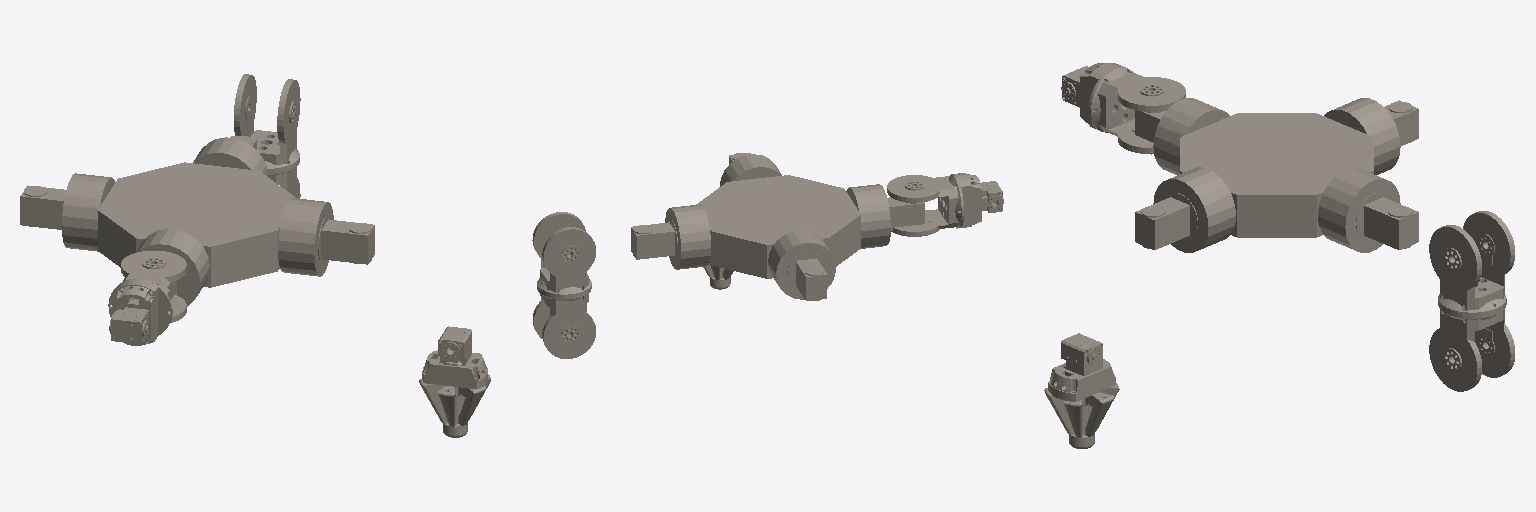
URDF robot description (Moonbot_1_urdf):
<?xml version="1.0" encoding="utf-8"?>
<!-- This URDF was automatically created by SolidWorks to URDF Exporter! Originally created by [author] ([email redacted]) 
     Commit Version: 1.6.0-4-g7f85cfe  Build Version: 1.6.7995.38578
     For more information, please see http://wiki.ros.org/sw_urdf_exporter -->
<robot
  name="Moonbot_1_urdf">
  <link
    name="base_link">
    <inertial>
      <origin
        xyz="4.4525E-06 -1.372E-05 0.015651"
        rpy="0 0 0" />
      <mass
        value="1.7613" />
      <inertia
        ixx="0.0022157"
        ixy="1.9729E-07"
        ixz="6.2687E-11"
        iyy="0.0022117"
        iyz="-1.9316E-10"
        izz="0.0037074" />
    </inertial>
    <visual>
      <origin
        xyz="0 0 0"
        rpy="0 0 0" />
      <geometry>
        <mesh
          filename="package://Moonbot_1_urdf/meshes/base_link.STL" />
      </geometry>
      <material
        name="">
        <color
          rgba="0.64706 0.61961 0.58431 1" />
      </material>
    </visual>
    <collision>
      <origin
        xyz="0 0 0"
        rpy="0 0 0" />
      <geometry>
        <mesh
          filename="package://Moonbot_1_urdf/meshes/base_link.STL" />
      </geometry>
    </collision>
  </link>
  <link
    name="Leg1_Link1">
    <inertial>
      <origin
        xyz="-0.16164 -0.16206 0.0078727"
        rpy="0 0 0" />
      <mass
        value="0.19524" />
      <inertia
        ixx="0.00013212"
        ixy="-2.569E-05"
        ixz="3.8551E-10"
        iyy="0.00013211"
        iyz="4.1271E-10"
        izz="0.00012874" />
    </inertial>
    <visual>
      <origin
        xyz="0 0 0"
        rpy="0 0 0" />
      <geometry>
        <mesh
          filename="package://Moonbot_1_urdf/meshes/Leg1_Link1.STL" />
      </geometry>
      <material
        name="">
        <color
          rgba="0.64706 0.61961 0.58431 1" />
      </material>
    </visual>
    <collision>
      <origin
        xyz="0 0 0"
        rpy="0 0 0" />
      <geometry>
        <mesh
          filename="package://Moonbot_1_urdf/meshes/Leg1_Link1.STL" />
      </geometry>
    </collision>
  </link>
  <joint
    name="Leg1_Joint1"
    type="revolute">
    <origin
      xyz="0 0 0"
      rpy="0 0 0" />
    <parent
      link="base_link" />
    <child
      link="Leg1_Link1" />
    <axis
      xyz="0 0 -1" />
    <limit
      lower="-1.57"
      upper="1.57"
      effort="200"
      velocity="3" />
  </joint>
  <link
    name="Leg1_Link2">
    <inertial>
      <origin
        xyz="-0.20029 -0.19993 -0.0487"
        rpy="0 0 0" />
      <mass
        value="0.2225" />
      <inertia
        ixx="0.00024185"
        ixy="1.6469E-05"
        ixz="2.7889E-10"
        iyy="0.00024185"
        iyz="-2.7889E-10"
        izz="0.00016006" />
    </inertial>
    <visual>
      <origin
        xyz="0 0 0"
        rpy="0 0 0" />
      <geometry>
        <mesh
          filename="package://Moonbot_1_urdf/meshes/Leg1_Link2.STL" />
      </geometry>
      <material
        name="">
        <color
          rgba="0.64706 0.61961 0.58431 1" />
      </material>
    </visual>
    <collision>
      <origin
        xyz="0 0 0"
        rpy="0 0 0" />
      <geometry>
        <mesh
          filename="package://Moonbot_1_urdf/meshes/Leg1_Link2.STL" />
      </geometry>
    </collision>
  </link>
  <joint
    name="Leg1_Joint2"
    type="revolute">
    <origin
      xyz="0 0 0"
      rpy="0 0 0" />
    <parent
      link="Leg1_Link1" />
    <child
      link="Leg1_Link2" />
    <axis
      xyz="0.70711 -0.70711 0" />
    <limit
      lower="-1.57"
      upper="1.57"
      effort="200"
      velocity="3" />
  </joint>
  <link
    name="Leg1_Link3">
    <inertial>
      <origin
        xyz="-0.19985 -0.20037 -0.14553"
        rpy="0 0 0" />
      <mass
        value="0.14207" />
      <inertia
        ixx="4.5915E-05"
        ixy="-5.5477E-06"
        ixz="-6.9185E-10"
        iyy="4.5915E-05"
        iyz="1.1922E-09"
        izz="5.1594E-05" />
    </inertial>
    <visual>
      <origin
        xyz="0 0 0"
        rpy="0 0 0" />
      <geometry>
        <mesh
          filename="package://Moonbot_1_urdf/meshes/Leg1_Link3.STL" />
      </geometry>
      <material
        name="">
        <color
          rgba="0.64706 0.61961 0.58431 1" />
      </material>
    </visual>
    <collision>
      <origin
        xyz="0 0 0"
        rpy="0 0 0" />
      <geometry>
        <mesh
          filename="package://Moonbot_1_urdf/meshes/Leg1_Link3.STL" />
      </geometry>
    </collision>
  </link>
  <joint
    name="Leg1_Joint3"
    type="revolute">
    <origin
      xyz="0 0 0"
      rpy="0 0 0" />
    <parent
      link="Leg1_Link2" />
    <child
      link="Leg1_Link3" />
    <axis
      xyz="0.70711 -0.70711 0" />
    <limit
      lower="-1.57"
      upper="1.57"
      effort="200"
      velocity="3" />
  </joint>
  <link
    name="Leg2_Link1">
    <inertial>
      <origin
        xyz="-0.16206 0.16164 0.0078727"
        rpy="0 0 0" />
      <mass
        value="0.19524" />
      <inertia
        ixx="0.00013211"
        ixy="2.569E-05"
        ixz="4.1271E-10"
        iyy="0.00013212"
        iyz="-3.8551E-10"
        izz="0.00012874" />
    </inertial>
    <visual>
      <origin
        xyz="0 0 0"
        rpy="0 0 0" />
      <geometry>
        <mesh
          filename="package://Moonbot_1_urdf/meshes/Leg2_Link1.STL" />
      </geometry>
      <material
        name="">
        <color
          rgba="0.64706 0.61961 0.58431 1" />
      </material>
    </visual>
    <collision>
      <origin
        xyz="0 0 0"
        rpy="0 0 0" />
      <geometry>
        <mesh
          filename="package://Moonbot_1_urdf/meshes/Leg2_Link1.STL" />
      </geometry>
    </collision>
  </link>
  <joint
    name="Leg2_Joint1"
    type="revolute">
    <origin
      xyz="0 0 0"
      rpy="0 0 0" />
    <parent
      link="base_link" />
    <child
      link="Leg2_Link1" />
    <axis
      xyz="0 0 -1" />
    <limit
      lower="-1.57"
      upper="1.57"
      effort="200"
      velocity="3" />
  </joint>
  <link
    name="Leg2_Link2">
    <inertial>
      <origin
        xyz="-0.19993 0.20029 -0.0487"
        rpy="0 0 0" />
      <mass
        value="0.2225" />
      <inertia
        ixx="0.00024185"
        ixy="-1.6469E-05"
        ixz="-3.0519E-10"
        iyy="0.00024185"
        iyz="3.0519E-10"
        izz="0.00016006" />
    </inertial>
    <visual>
      <origin
        xyz="0 0 0"
        rpy="0 0 0" />
      <geometry>
        <mesh
          filename="package://Moonbot_1_urdf/meshes/Leg2_Link2.STL" />
      </geometry>
      <material
        name="">
        <color
          rgba="0.64706 0.61961 0.58431 1" />
      </material>
    </visual>
    <collision>
      <origin
        xyz="0 0 0"
        rpy="0 0 0" />
      <geometry>
        <mesh
          filename="package://Moonbot_1_urdf/meshes/Leg2_Link2.STL" />
      </geometry>
    </collision>
  </link>
  <joint
    name="Leg2_Joint2"
    type="revolute">
    <origin
      xyz="0 0 0"
      rpy="0 0 0" />
    <parent
      link="Leg2_Link1" />
    <child
      link="Leg2_Link2" />
    <axis
      xyz="0.70711 0.70711 0" />
    <limit
      lower="-1.57"
      upper="1.57"
      effort="200"
      velocity="3" />
  </joint>
  <link
    name="Leg2_Link3">
    <inertial>
      <origin
        xyz="-0.20037 0.19985 -0.14553"
        rpy="0 0 0" />
      <mass
        value="0.14207" />
      <inertia
        ixx="4.5915E-05"
        ixy="5.5477E-06"
        ixz="1.1923E-09"
        iyy="4.5915E-05"
        iyz="6.9184E-10"
        izz="5.1594E-05" />
    </inertial>
    <visual>
      <origin
        xyz="0 0 0"
        rpy="0 0 0" />
      <geometry>
        <mesh
          filename="package://Moonbot_1_urdf/meshes/Leg2_Link3.STL" />
      </geometry>
      <material
        name="">
        <color
          rgba="0.64706 0.61961 0.58431 1" />
      </material>
    </visual>
    <collision>
      <origin
        xyz="0 0 0"
        rpy="0 0 0" />
      <geometry>
        <mesh
          filename="package://Moonbot_1_urdf/meshes/Leg2_Link3.STL" />
      </geometry>
    </collision>
  </link>
  <joint
    name="Leg2_joint3"
    type="revolute">
    <origin
      xyz="0 0 0"
      rpy="0 0 0" />
    <parent
      link="Leg2_Link2" />
    <child
      link="Leg2_Link3" />
    <axis
      xyz="0.70711 0.70711 0" />
    <limit
      lower="-1.57"
      upper="1.57"
      effort="200"
      velocity="3" />
  </joint>
  <link
    name="Leg3_Link1">
    <inertial>
      <origin
        xyz="0.16181 -0.16189 0.0078731"
        rpy="0 0 0" />
      <mass
        value="0.19524" />
      <inertia
        ixx="0.00013212"
        ixy="2.569E-05"
        ixz="3.8551E-10"
        iyy="0.00013211"
        iyz="-4.1271E-10"
        izz="0.00012874" />
    </inertial>
    <visual>
      <origin
        xyz="0 0 0"
        rpy="0 0 0" />
      <geometry>
        <mesh
          filename="package://Moonbot_1_urdf/meshes/Leg3_Link1.STL" />
      </geometry>
      <material
        name="">
        <color
          rgba="0.64706 0.61961 0.58431 1" />
      </material>
    </visual>
    <collision>
      <origin
        xyz="0 0 0"
        rpy="0 0 0" />
      <geometry>
        <mesh
          filename="package://Moonbot_1_urdf/meshes/Leg3_Link1.STL" />
      </geometry>
    </collision>
  </link>
  <joint
    name="Leg3_Joint1"
    type="revolute">
    <origin
      xyz="0 0 0"
      rpy="0 0 0" />
    <parent
      link="base_link" />
    <child
      link="Leg3_Link1" />
    <axis
      xyz="0 0 -1" />
    <limit
      lower="-1.57"
      upper="1.57"
      effort="200"
      velocity="3" />
  </joint>
  <link
    name="Leg3_Link2">
    <inertial>
      <origin
        xyz="0.20046 -0.19976 -0.0487"
        rpy="0 0 0" />
      <mass
        value="0.2225" />
      <inertia
        ixx="0.00024185"
        ixy="-1.6469E-05"
        ixz="-3.0519E-10"
        iyy="0.00024185"
        iyz="3.0519E-10"
        izz="0.00016006" />
    </inertial>
    <visual>
      <origin
        xyz="0 0 0"
        rpy="0 0 0" />
      <geometry>
        <mesh
          filename="package://Moonbot_1_urdf/meshes/Leg3_Link2.STL" />
      </geometry>
      <material
        name="">
        <color
          rgba="0.64706 0.61961 0.58431 1" />
      </material>
    </visual>
    <collision>
      <origin
        xyz="0 0 0"
        rpy="0 0 0" />
      <geometry>
        <mesh
          filename="package://Moonbot_1_urdf/meshes/Leg3_Link2.STL" />
      </geometry>
    </collision>
  </link>
  <joint
    name="Leg3_Joint2"
    type="revolute">
    <origin
      xyz="0 0 0"
      rpy="0 0 0" />
    <parent
      link="Leg3_Link1" />
    <child
      link="Leg3_Link2" />
    <axis
      xyz="0.70711 0.70711 0" />
    <limit
      lower="-1.57"
      upper="1.57"
      effort="200"
      velocity="3" />
  </joint>
  <link
    name="Leg3_Link3">
    <inertial>
      <origin
        xyz="0.2009 -0.19932 -0.14553"
        rpy="0 0 0" />
      <mass
        value="0.14207" />
      <inertia
        ixx="4.5915E-05"
        ixy="5.5477E-06"
        ixz="-1.1923E-09"
        iyy="4.5915E-05"
        iyz="-6.9184E-10"
        izz="5.1594E-05" />
    </inertial>
    <visual>
      <origin
        xyz="0 0 0"
        rpy="0 0 0" />
      <geometry>
        <mesh
          filename="package://Moonbot_1_urdf/meshes/Leg3_Link3.STL" />
      </geometry>
      <material
        name="">
        <color
          rgba="0.64706 0.61961 0.58431 1" />
      </material>
    </visual>
    <collision>
      <origin
        xyz="0 0 0"
        rpy="0 0 0" />
      <geometry>
        <mesh
          filename="package://Moonbot_1_urdf/meshes/Leg3_Link3.STL" />
      </geometry>
    </collision>
  </link>
  <joint
    name="Leg3_Joint3"
    type="revolute">
    <origin
      xyz="0 0 0"
      rpy="0 0 0" />
    <parent
      link="Leg3_Link2" />
    <child
      link="Leg3_Link3" />
    <axis
      xyz="0.70711 0.70711 0" />
    <limit
      lower="-1.57"
      upper="1.57"
      effort="200"
      velocity="3" />
  </joint>
  <link
    name="Leg4_Link1">
    <inertial>
      <origin
        xyz="4.4525E-06 -1.372E-05 0.015651"
        rpy="0 0 0" />
      <mass
        value="1.7613" />
      <inertia
        ixx="0.0022157"
        ixy="1.9729E-07"
        ixz="6.2687E-11"
        iyy="0.0022117"
        iyz="-1.9316E-10"
        izz="0.0037074" />
    </inertial>
    <visual>
      <origin
        xyz="0 0 0"
        rpy="0 0 0" />
      <geometry>
        <mesh
          filename="package://Moonbot_1_urdf/meshes/Leg4_Link1.STL" />
      </geometry>
      <material
        name="">
        <color
          rgba="0.64706 0.61961 0.58431 1" />
      </material>
    </visual>
    <collision>
      <origin
        xyz="0 0 0"
        rpy="0 0 0" />
      <geometry>
        <mesh
          filename="package://Moonbot_1_urdf/meshes/Leg4_Link1.STL" />
      </geometry>
    </collision>
  </link>
  <joint
    name="Leg4_Joint1"
    type="revolute">
    <origin
      xyz="0 0 0"
      rpy="0 0 0" />
    <parent
      link="base_link" />
    <child
      link="Leg4_Link1" />
    <axis
      xyz="0 0 -1" />
    <limit
      lower="-1.57"
      upper="1.57"
      effort="200"
      velocity="3" />
  </joint>
  <link
    name="Leg4_Link2">
    <inertial>
      <origin
        xyz="0.20029 0.19993 -0.0487"
        rpy="0 0 0" />
      <mass
        value="0.2225" />
      <inertia
        ixx="0.00024185"
        ixy="1.6469E-05"
        ixz="-3.0519E-10"
        iyy="0.00024185"
        iyz="-3.0519E-10"
        izz="0.00016006" />
    </inertial>
    <visual>
      <origin
        xyz="0 0 0"
        rpy="0 0 0" />
      <geometry>
        <mesh
          filename="package://Moonbot_1_urdf/meshes/Leg4_Link2.STL" />
      </geometry>
      <material
        name="">
        <color
          rgba="0.64706 0.61961 0.58431 1" />
      </material>
    </visual>
    <collision>
      <origin
        xyz="0 0 0"
        rpy="0 0 0" />
      <geometry>
        <mesh
          filename="package://Moonbot_1_urdf/meshes/Leg4_Link2.STL" />
      </geometry>
    </collision>
  </link>
  <joint
    name="LEg4_Joint2"
    type="revolute">
    <origin
      xyz="0 0 0"
      rpy="0 0 0" />
    <parent
      link="Leg4_Link1" />
    <child
      link="Leg4_Link2" />
    <axis
      xyz="-0.70711 0.70711 0" />
    <limit
      lower="-1.57"
      upper="1.57"
      effort="200"
      velocity="3" />
  </joint>
  <link
    name="Leg4_Link3">
    <inertial>
      <origin
        xyz="0.19985 0.20037 -0.14553"
        rpy="0 0 0" />
      <mass
        value="0.14207" />
      <inertia
        ixx="4.5915E-05"
        ixy="-5.5477E-06"
        ixz="6.9186E-10"
        iyy="4.5915E-05"
        iyz="-1.1923E-09"
        izz="5.1594E-05" />
    </inertial>
    <visual>
      <origin
        xyz="0 0 0"
        rpy="0 0 0" />
      <geometry>
        <mesh
          filename="package://Moonbot_1_urdf/meshes/Leg4_Link3.STL" />
      </geometry>
      <material
        name="">
        <color
          rgba="0.64706 0.61961 0.58431 1" />
      </material>
    </visual>
    <collision>
      <origin
        xyz="0 0 0"
        rpy="0 0 0" />
      <geometry>
        <mesh
          filename="package://Moonbot_1_urdf/meshes/Leg4_Link3.STL" />
      </geometry>
    </collision>
  </link>
  <joint
    name="Leg4_Joint3"
    type="revolute">
    <origin
      xyz="0 0 0"
      rpy="0 0 0" />
    <parent
      link="Leg4_Link2" />
    <child
      link="Leg4_Link3" />
    <axis
      xyz="-0.70711 0.70711 0" />
    <limit
      lower="-1.57"
      upper="1.57"
      effort="200"
      velocity="3" />
  </joint>
</robot>

--- What the picture shows (computed from the rendered views, not written in the file) ---
Views: 3 orthographic renders of the robot side by side, from view 1: azimuth 30°, elevation 25°; view 2: azimuth 150°, elevation 25°; view 3: azimuth 270°, elevation 25°.
Model Moonbot_1_urdf with 13 links and 12 joints (12 revolute), rooted at base_link, posed every joint at zero.
Links seen in each view (by area): view 1: base_link, Leg1_Link1, Leg3_Link3, Leg4_Link2; view 2: base_link, Leg4_Link2, Leg1_Link1; view 3: base_link, Leg4_Link2, Leg1_Link1, Leg3_Link3.
Link boxes in pixels (left/top/right/bottom): base_link: left=20, top=136, right=374, bottom=306; Leg1_Link1: left=108, top=251, right=186, bottom=345; Leg3_Link3: left=419, top=326, right=490, bottom=437; Leg4_Link2: left=234, top=74, right=300, bottom=198; base_link: left=631, top=153, right=924, bottom=300; Leg4_Link2: left=532, top=212, right=595, bottom=358; Leg1_Link1: left=887, top=173, right=1003, bottom=236; base_link: left=1135, top=98, right=1418, bottom=252; Leg4_Link2: left=1429, top=211, right=1514, bottom=391; Leg1_Link1: left=1061, top=63, right=1185, bottom=154; Leg3_Link3: left=1044, top=333, right=1119, bottom=448.
Size in the robot's own frame: 0.4648 by 0.482 by 0.2542 metres.
4 mesh visuals loaded from 13 distinct referenced files (4 binary STL); not drawn: 9 (reference not matched to a file when rendering).